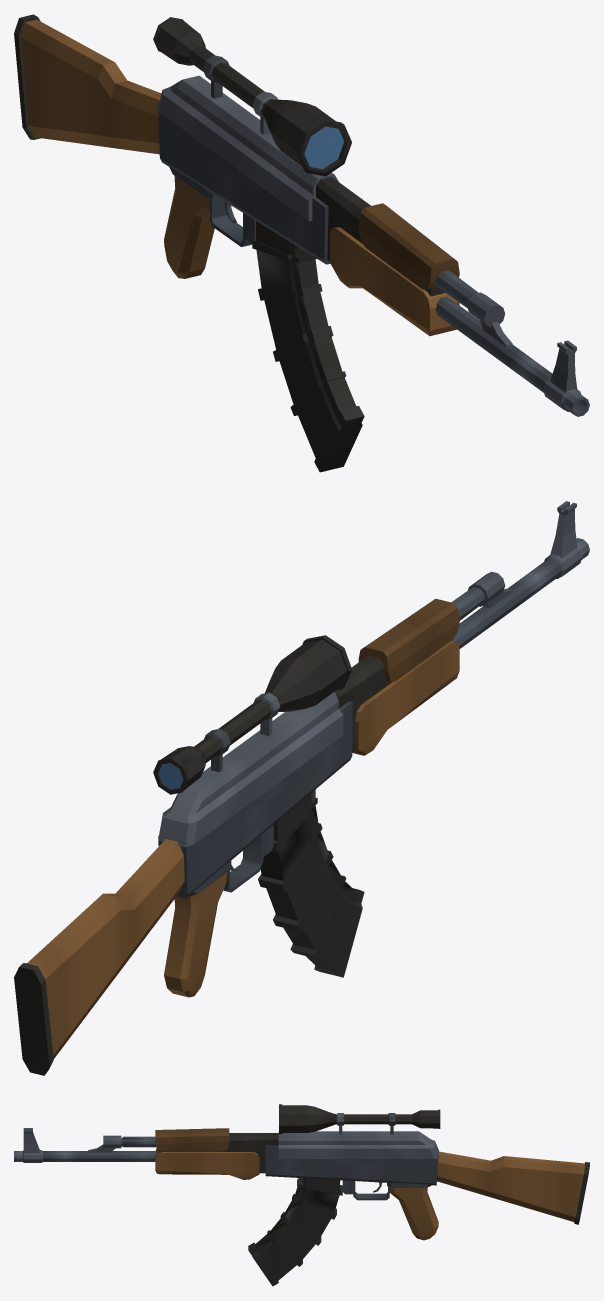
The picture shows the model from 3 angles, top to bottom: view 1: azimuth 30°, elevation 25°; view 2: azimuth 150°, elevation 25°; view 3: azimuth 270°, elevation 25°; orthographic projection. The views are drawn at different scales.
Visible parts, largest first — view 1: br52; view 2: br52; view 3: br52.
Part boxes in pixels (x1,y1,x2,y2): br52: (14, 14, 589, 472); br52: (14, 501, 589, 1075); br52: (14, 1104, 589, 1286).
Bounding box in the file's own units: 0.0507 × 0.3148 × 0.92.
1 material, 1 textured.
